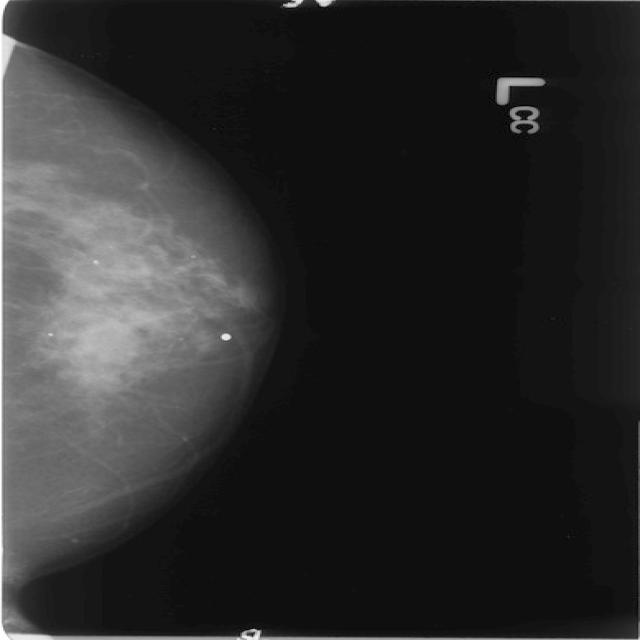tumour: (82, 320, 137, 366)
